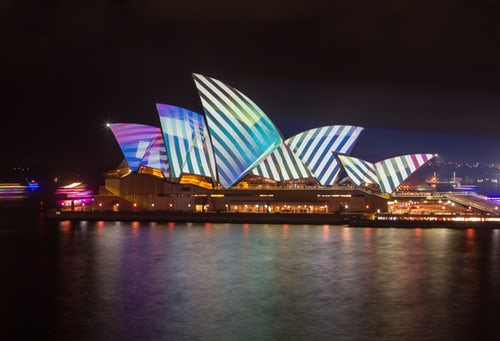opera house: (62, 72, 469, 227)
